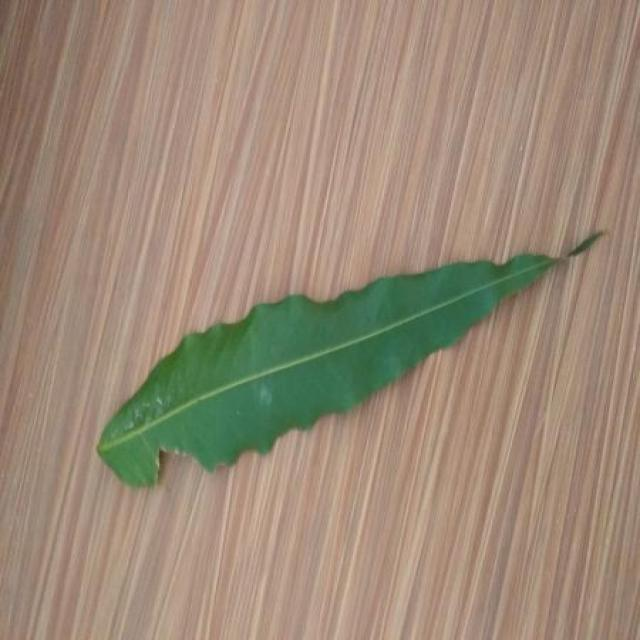ashoka: (98, 255, 558, 486)
defectedashoka: (98, 296, 340, 486)
